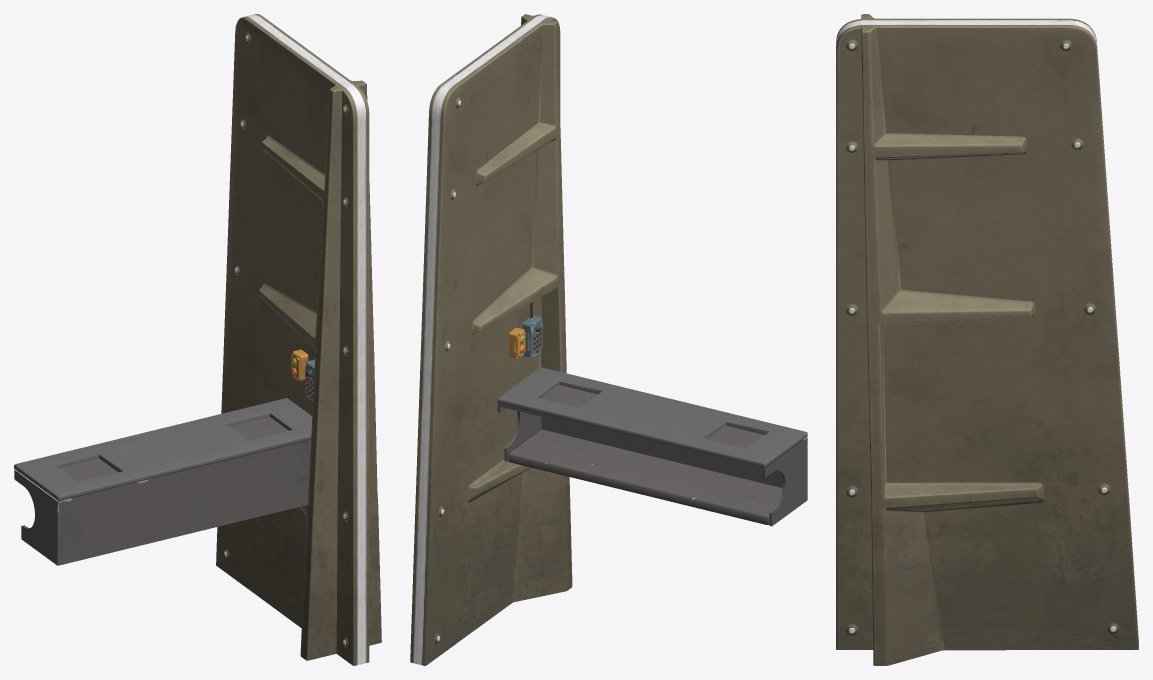
File: SM_Lane_Divider_01a.glb
The picture shows the model from 3 angles, left to right: view 1: azimuth 30°, elevation 25°; view 2: azimuth 150°, elevation 25°; view 3: azimuth 270°, elevation 25°; orthographic projection. The views are drawn at different scales.
Visible parts, largest first — view 1: SM_Lane_Divider_01a; view 2: SM_Lane_Divider_01a; view 3: SM_Lane_Divider_01a.
Boxes of the visible parts, x1,y1,x2,y2 form: SM_Lane_Divider_01a: [14, 14, 381, 665]; SM_Lane_Divider_01a: [410, 14, 807, 665]; SM_Lane_Divider_01a: [836, 14, 1138, 665].
Size of the model in its own units: 1.42 by 2.4 by 1.06.
Materials: 1 (1 with a texture image).
